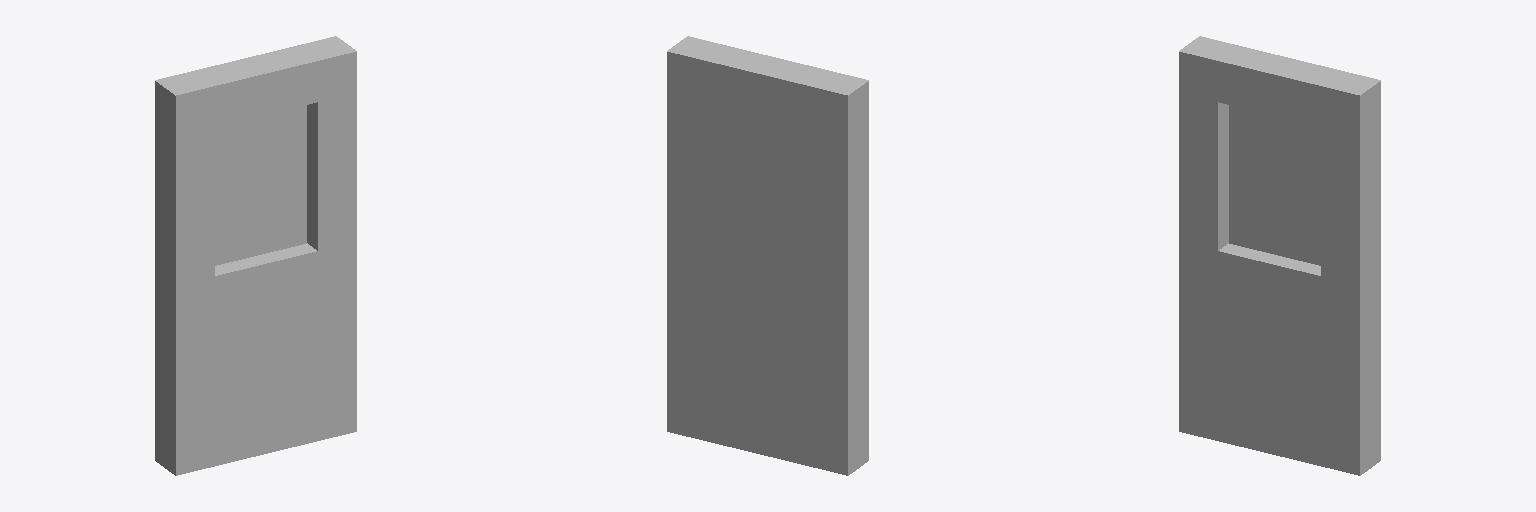
The model's file is door-brown-window.obj.
3 views of the same model, side by side, from view 1: azimuth 30°, elevation 25°; view 2: azimuth 150°, elevation 25°; view 3: azimuth 330°, elevation 25° (orthographic).
Visible parts, largest first — view 1: door-brown-window; view 2: door-brown-window; view 3: door-brown-window.
Part boxes in pixels (left/top/right/bottom): door-brown-window: left=155, top=36, right=356, bottom=475; door-brown-window: left=667, top=36, right=868, bottom=475; door-brown-window: left=1179, top=36, right=1380, bottom=475.
Size of the model in its own units: 0.25 by 0.5 by 0.05.